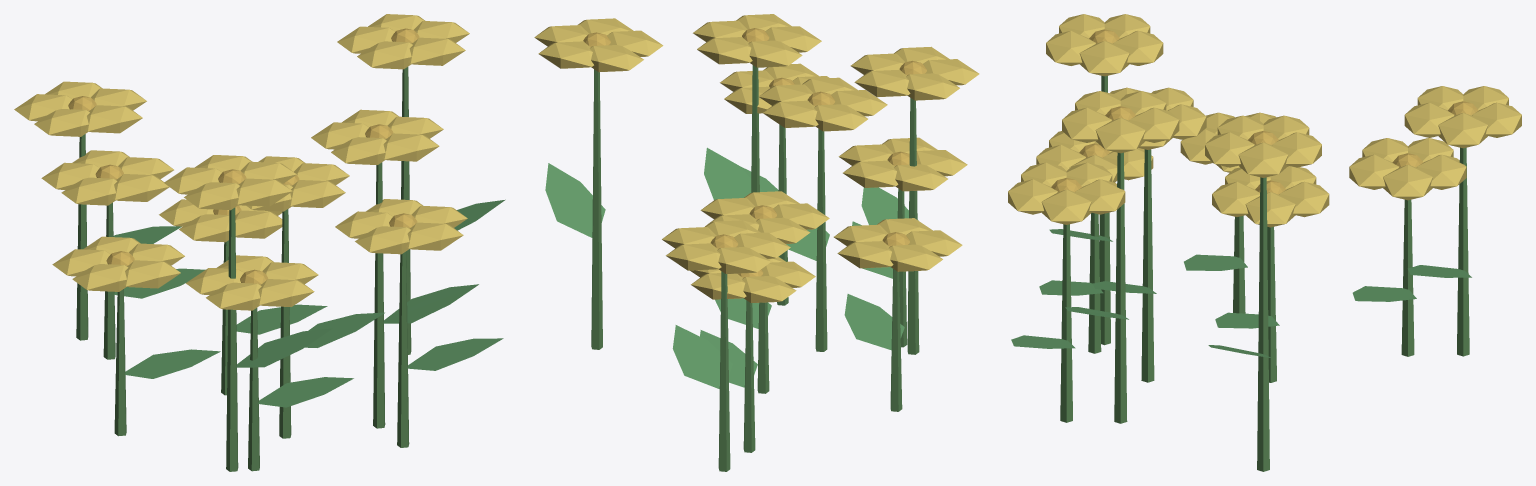
Rendered from flowers-02.glb.
3 renders of one model, left to right at view 1: azimuth 30°, elevation 25°; view 2: azimuth 150°, elevation 25°; view 3: azimuth 270°, elevation 25°, orthographic. The views are drawn at different scales.
Parts seen in each view (by area): view 1: part_000; view 2: part_000; view 3: part_000.
Boxes of the visible parts, x1,y1,x2,y2 form: part_000: [14, 14, 505, 471]; part_000: [534, 14, 979, 471]; part_000: [1008, 14, 1521, 471].
Size of the model in its own units: 0.6761 by 0.4938 by 0.6829.
